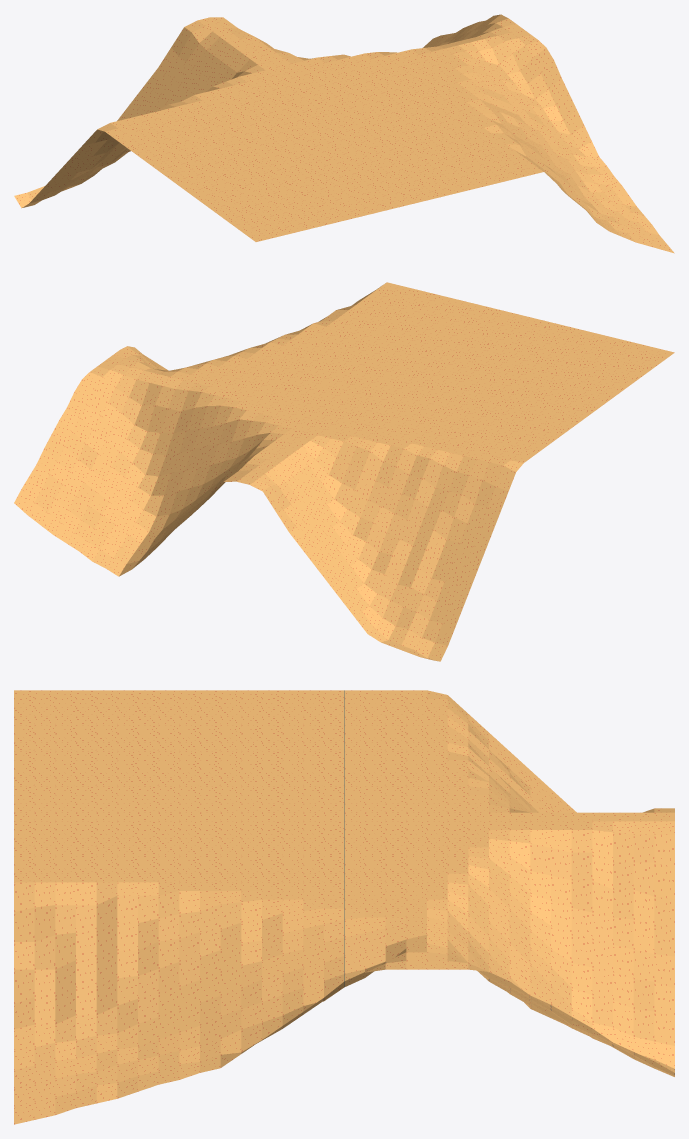
Rendered from map_chunked_049.gltf.
3 views of the same model, one above another, from view 1: azimuth 30°, elevation 25°; view 2: azimuth 150°, elevation 25°; view 3: azimuth 270°, elevation 25° (orthographic). The views are drawn at different scales.
Parts seen in each view (by area): view 1: map_chunked.049; view 2: map_chunked.049; view 3: map_chunked.049.
Boxes of the visible parts, x1,y1,x2,y2 form: map_chunked.049: (14,14,674,253); map_chunked.049: (14,282,674,661); map_chunked.049: (14,690,674,1124).
Size of the model in its own units: 32 by 10.04 by 32.
Materials: 1 (1 with a texture image).
